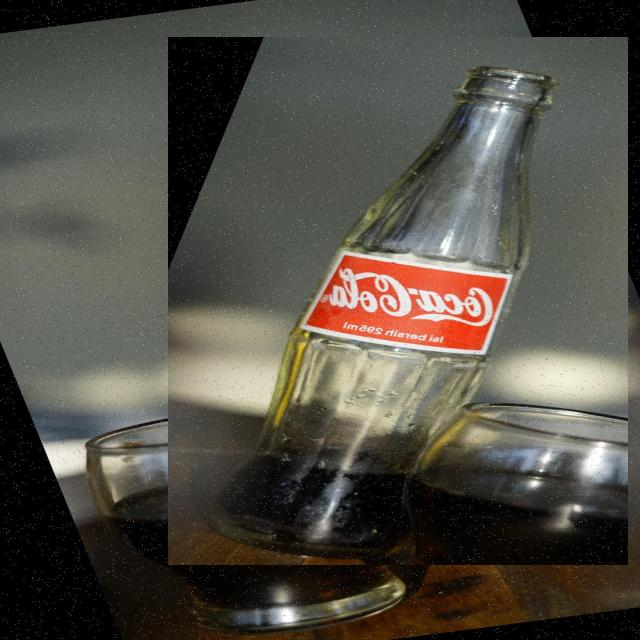coca-cola: (168, 37, 628, 565)
